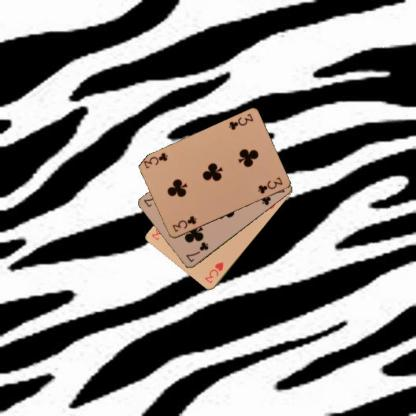3c: (170, 214, 198, 234), (226, 112, 254, 132)
3h: (202, 259, 225, 285)
7c: (183, 239, 210, 264)
